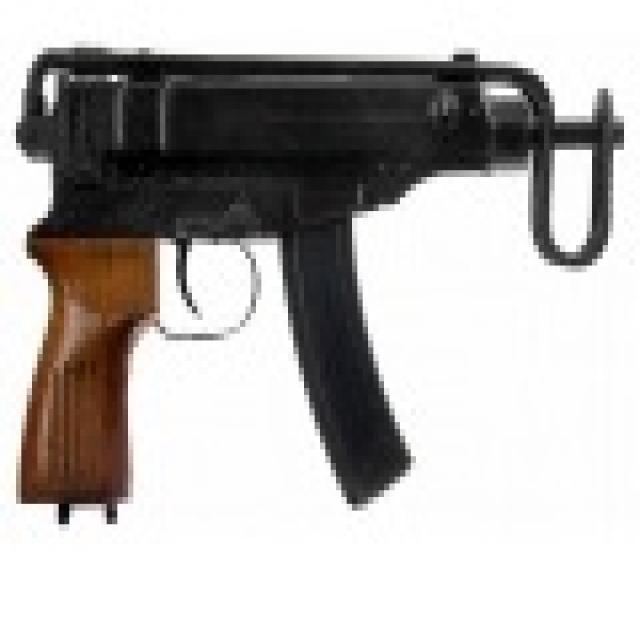Gun: (12, 26, 610, 488)
